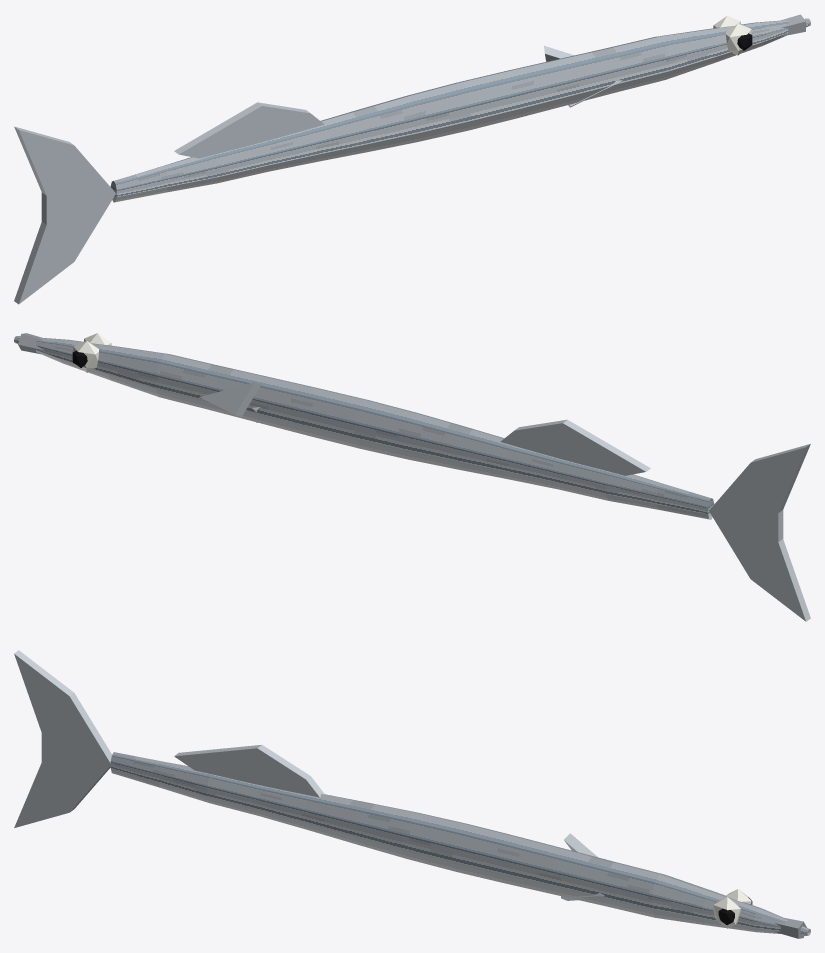
The model's file is silverjaw.glb.
3 renders of one model, top to bottom at view 1: azimuth 30°, elevation 25°; view 2: azimuth 150°, elevation 25°; view 3: azimuth 330°, elevation 25°, orthographic.
Parts seen in each view (by area): view 1: fish_silverjaw; view 2: fish_silverjaw; view 3: fish_silverjaw.
Boxes of the visible parts, left/top/right/bottom form: fish_silverjaw: left=14, top=14, right=810, bottom=304; fish_silverjaw: left=14, top=333, right=810, bottom=621; fish_silverjaw: left=14, top=650, right=810, bottom=938.
Bounding box in the file's own units: 1.14 × 0.24 × 0.0811.
Materials: 5 (1 with a texture image).
